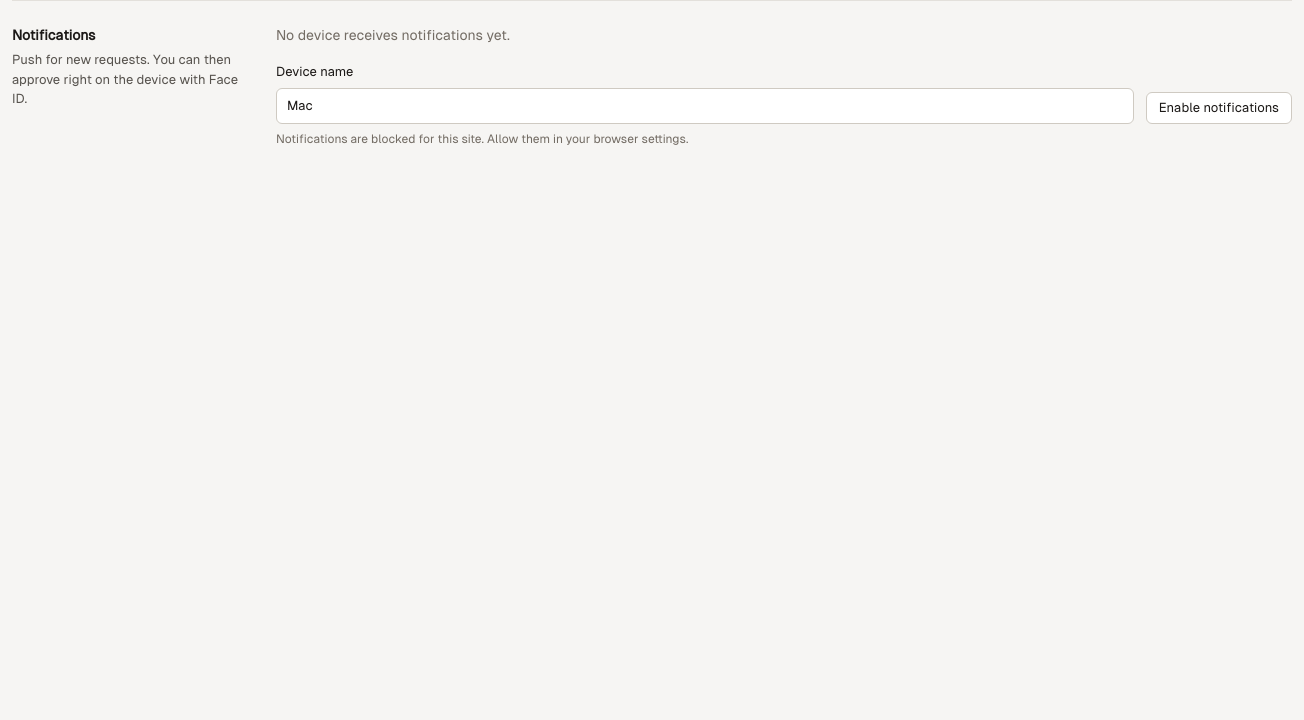
PushSection › a refused permission sends nothing to the server
Click the button "Enable notifications". click: (1219, 108)
box: x1=1146 y1=92 x2=1292 y2=124
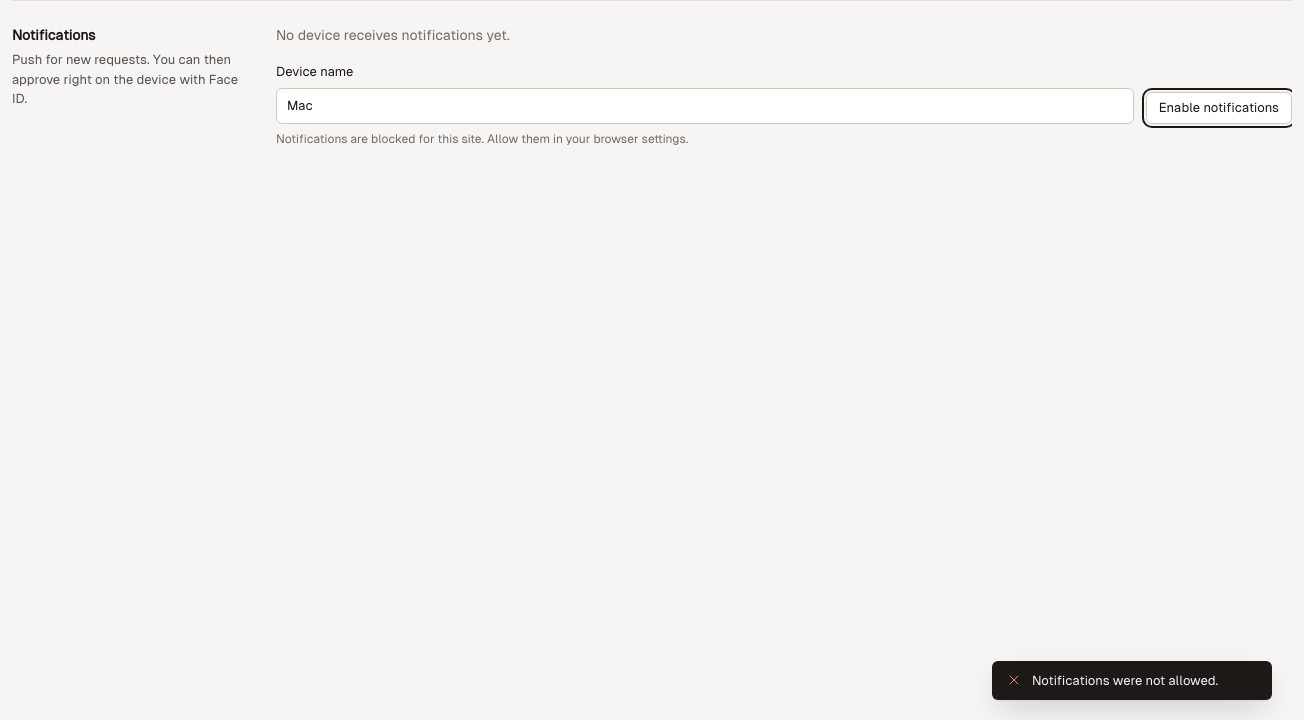
Expected: the text "Notifications are blocked for this site" is shown, x1=276 y1=132 x2=688 y2=146
Now the text "Notifications were not allowed." is shown, box x1=1032 y1=672 x2=1218 y2=688
